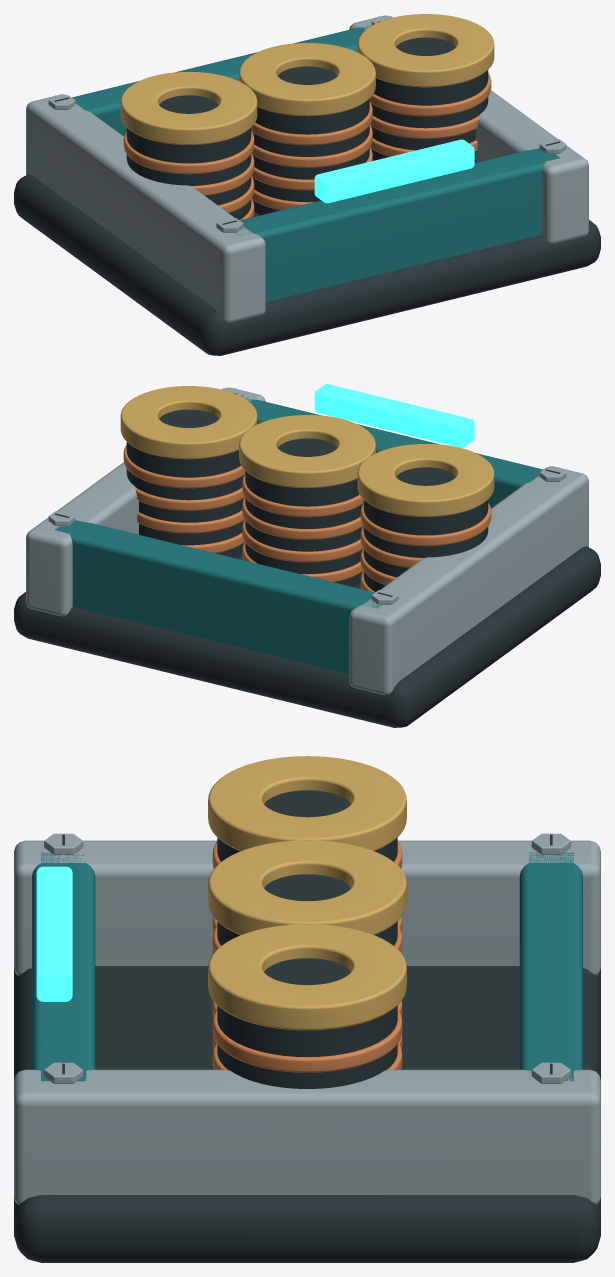
Rendered from SM_VFrame.fbx.
3 renders of one model, top to bottom at view 1: azimuth 30°, elevation 25°; view 2: azimuth 150°, elevation 25°; view 3: azimuth 270°, elevation 25°, orthographic. The views are drawn at different scales.
Visible parts, largest first — view 1: SM_VFrame; view 2: SM_VFrame; view 3: SM_VFrame.
Boxes of the visible parts, <box> form: SM_VFrame: <box>14,14,600,355</box>; SM_VFrame: <box>14,384,600,727</box>; SM_VFrame: <box>14,756,600,1262</box>.
Size of the model in its own units: 74 by 65 by 30.5.
